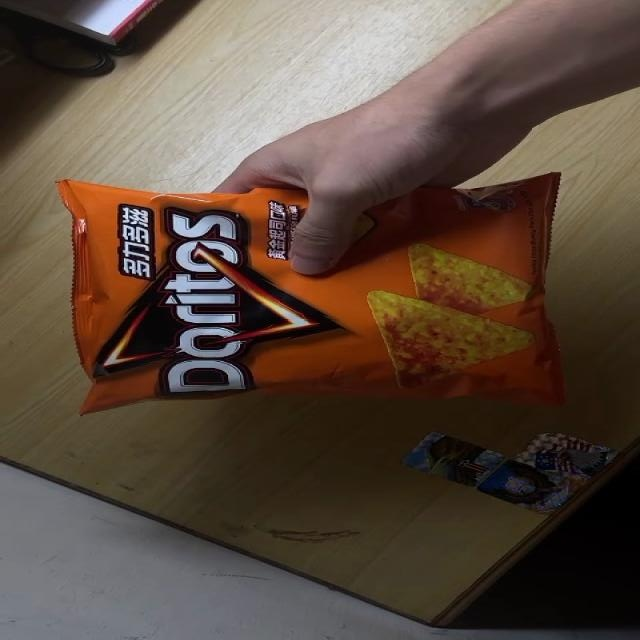Doritos: (55, 171, 570, 421)
